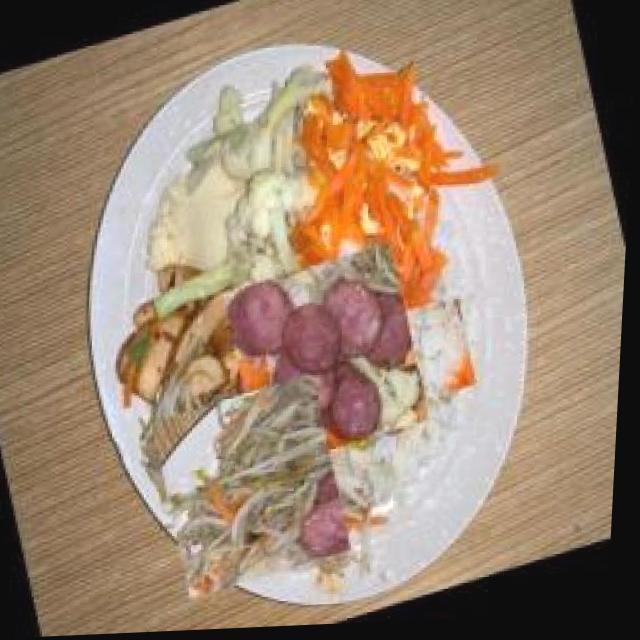carrot_eggs: (260, 28, 488, 355)
chinese_sausage: (218, 244, 440, 477)
mung_bean_sprouts: (145, 377, 367, 599)
rice: (406, 298, 485, 403)
